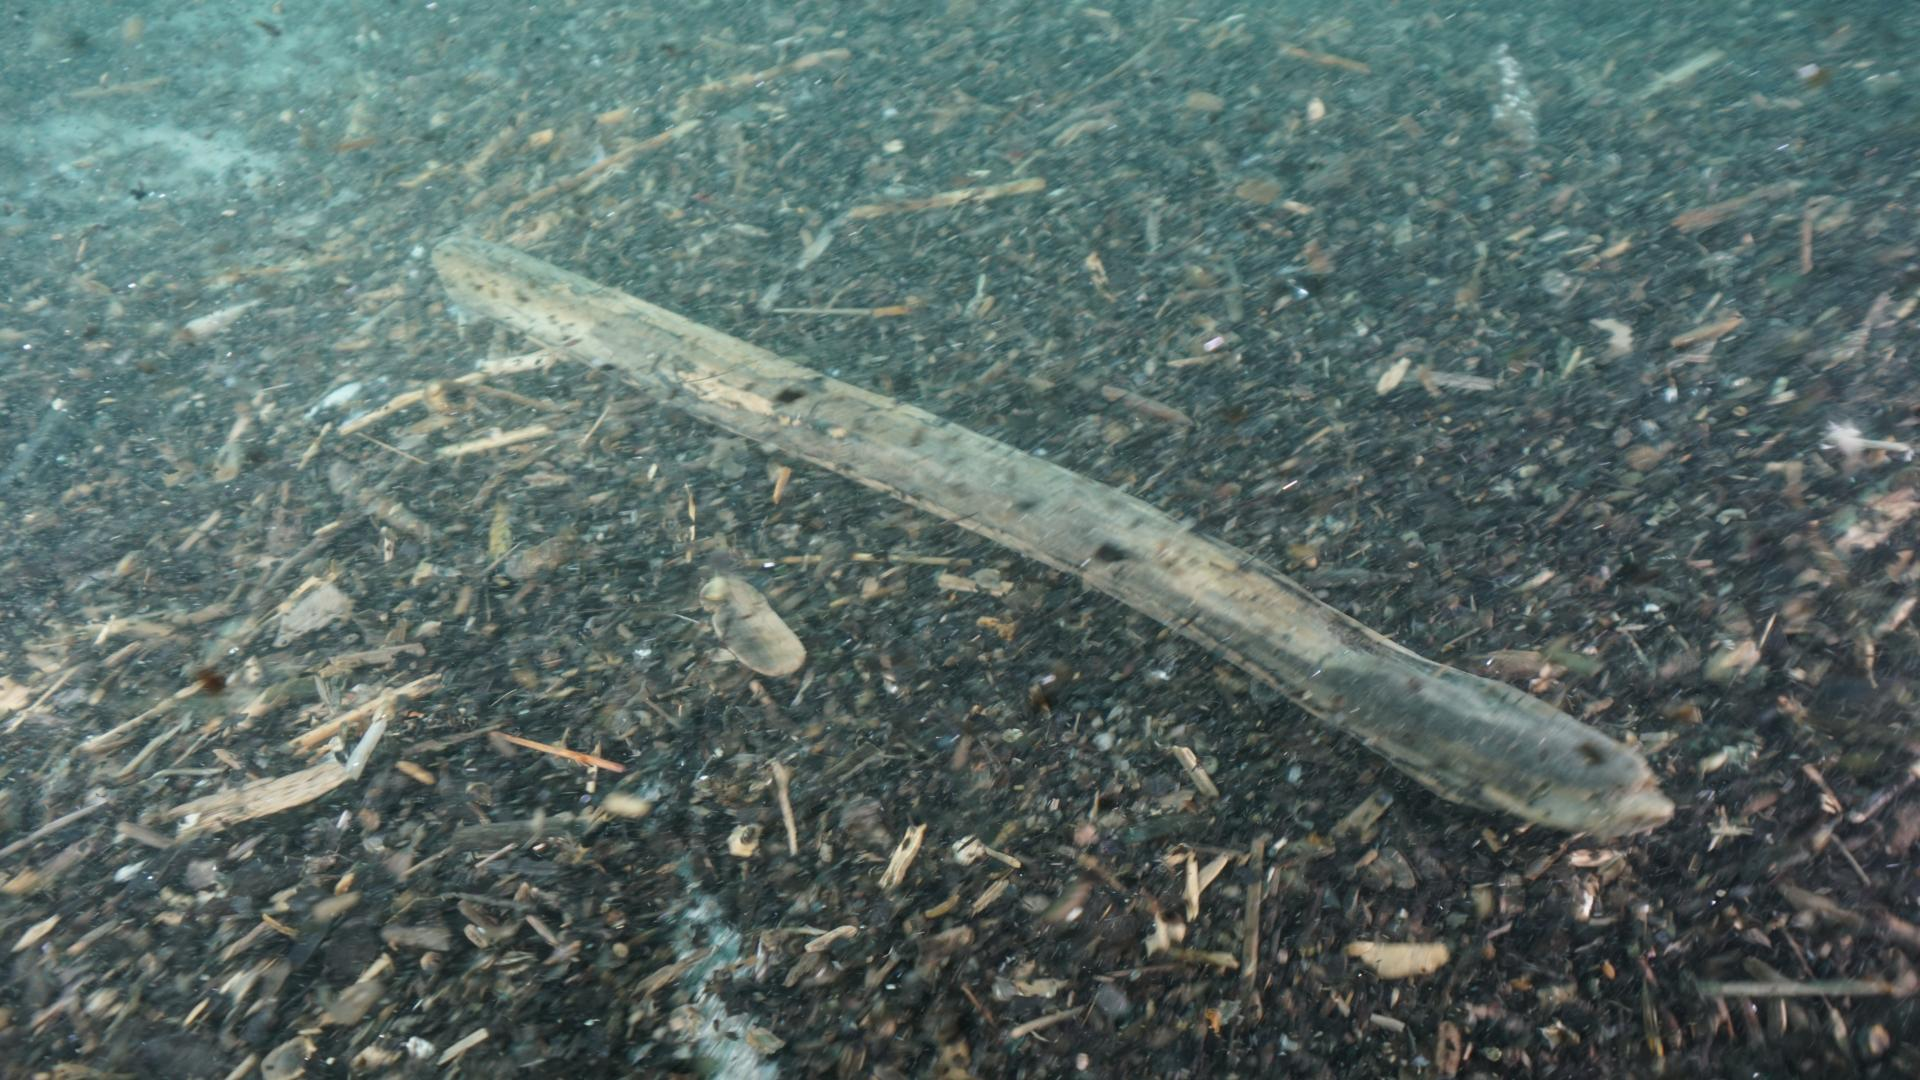wood: (426, 232, 1676, 839)
